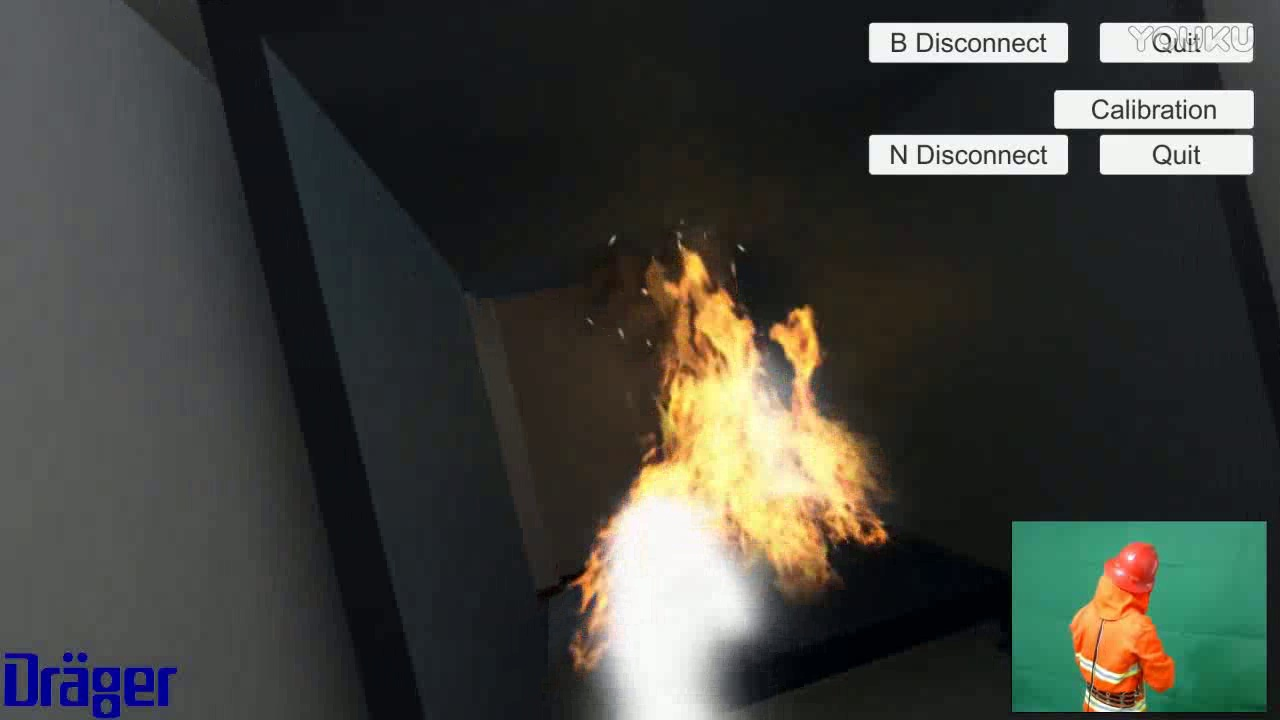fire: (561, 233, 892, 631)
